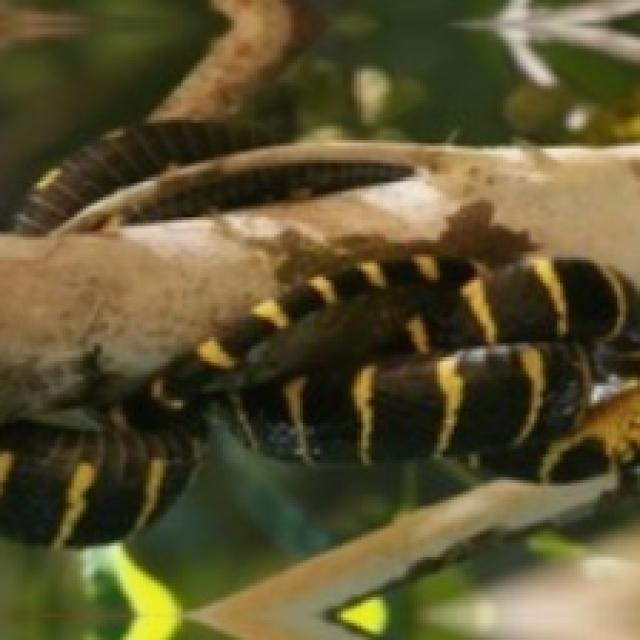mangrove cat snake: (0, 240, 637, 543), (52, 142, 425, 234), (14, 122, 280, 233)
